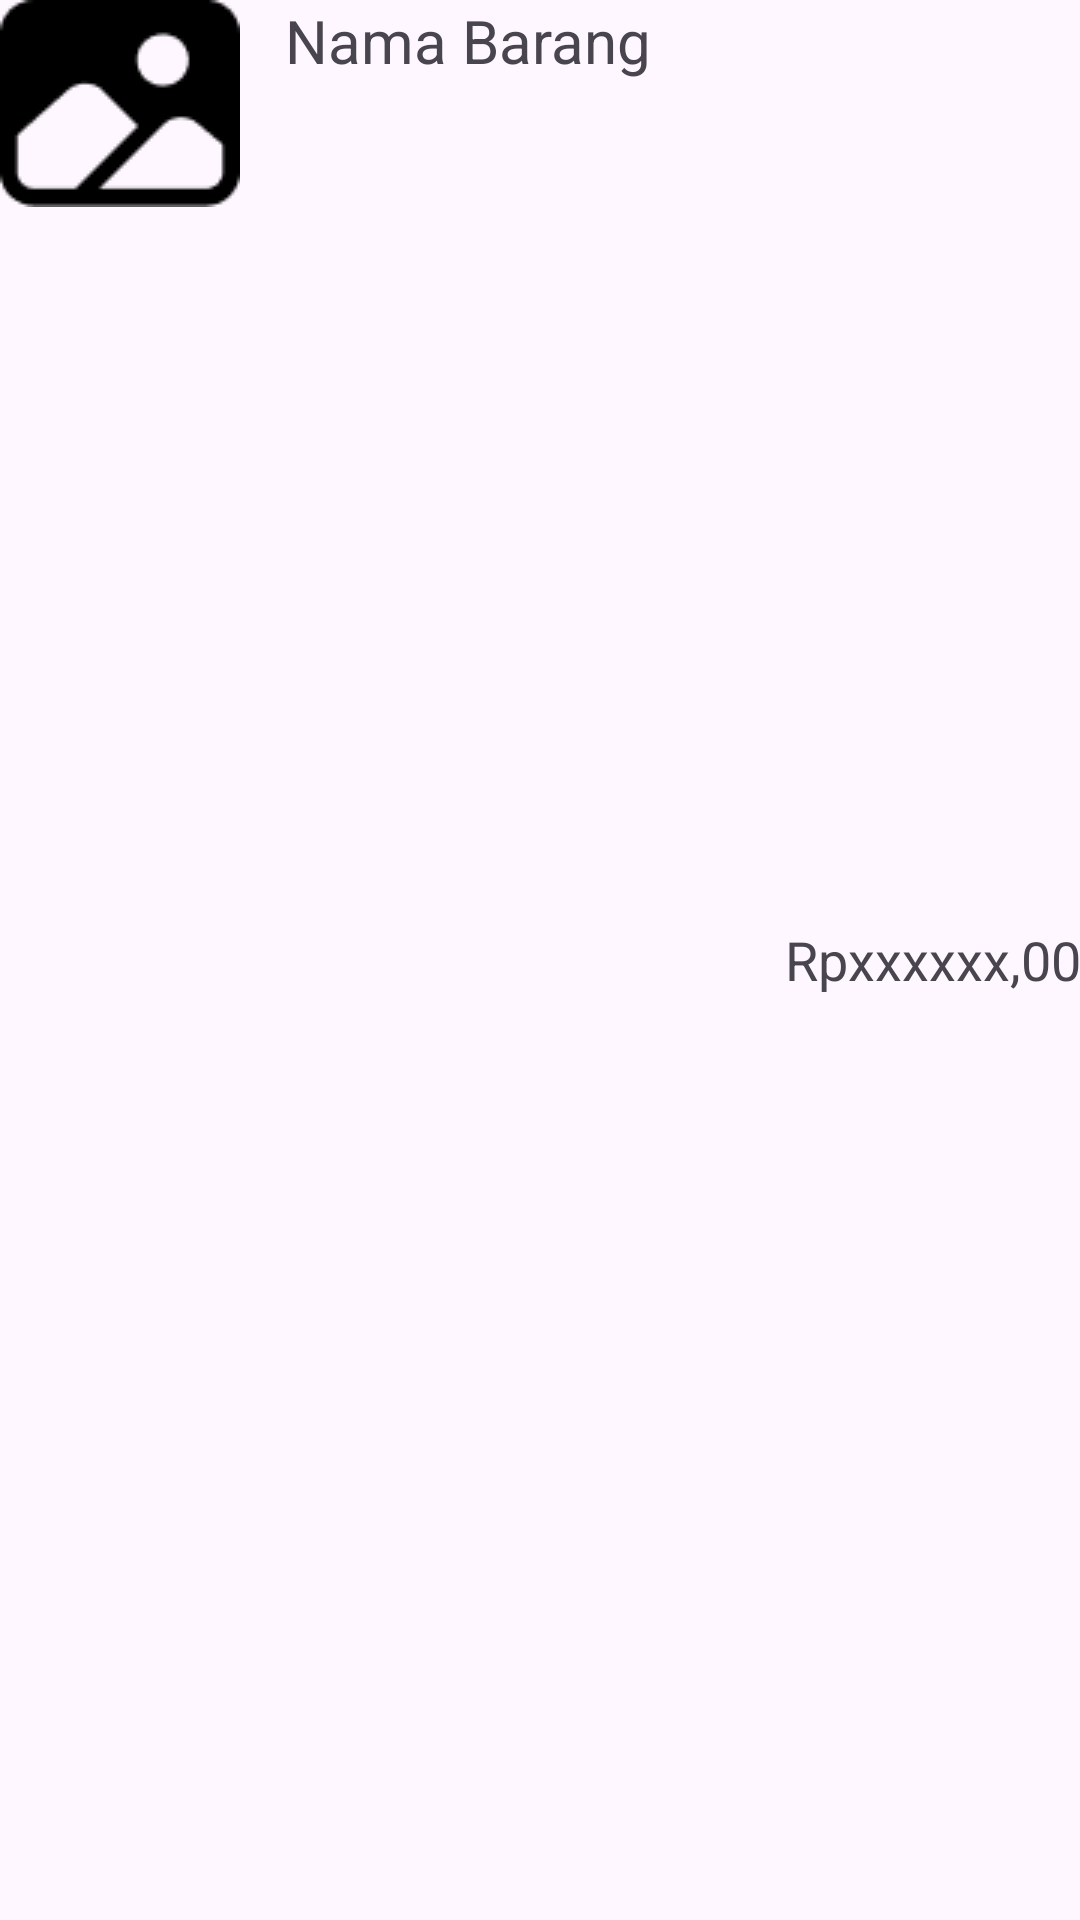

Icon bounding boxes for this 1080px×1920px phone screenshot, format (x1, y1, x2, y2):
foto: (0, 0, 240, 207)
